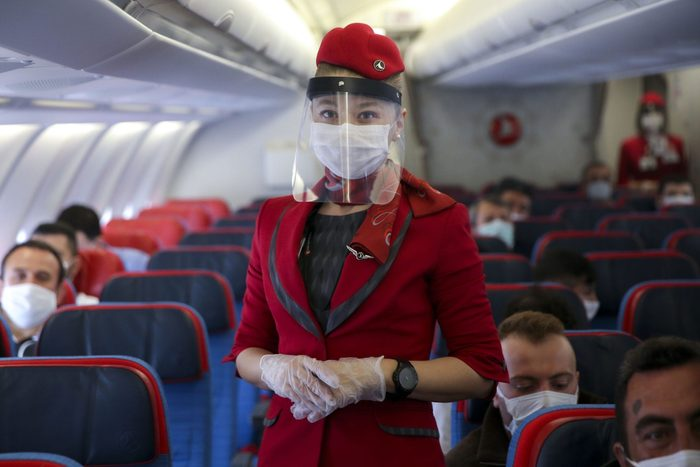with_mask: (307, 92, 390, 185), (14, 254, 53, 320)
